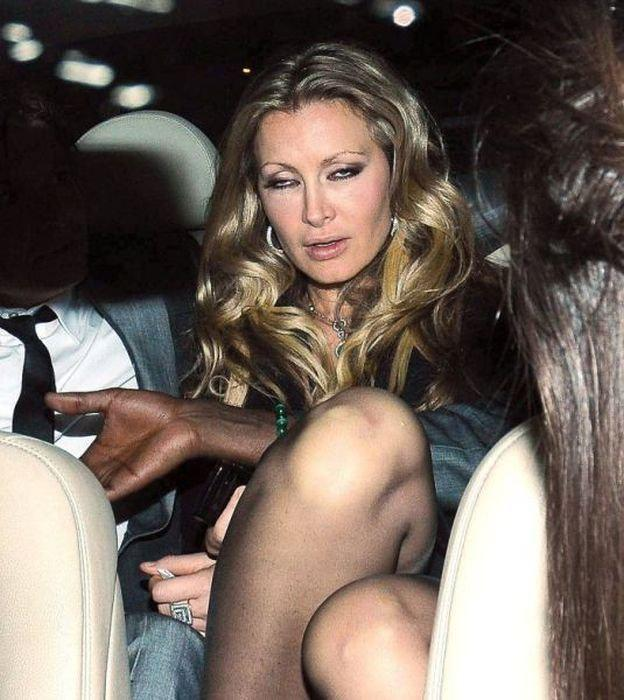Drunk: (248, 115, 382, 269)
